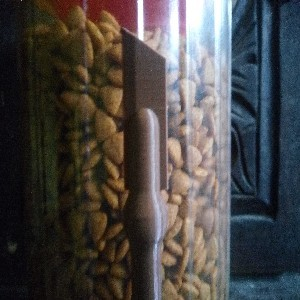cutter: (118, 24, 169, 300)
